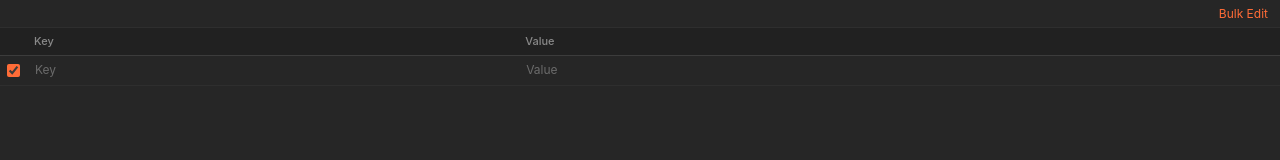
Test: KeyValueEditor › auto-appends an empty row when the last row is filled
The image size is (1280, 160).
Type "Accept" into the field with placeholder "Key" at (272, 70), box x1=26 y1=58 x2=517 y2=84
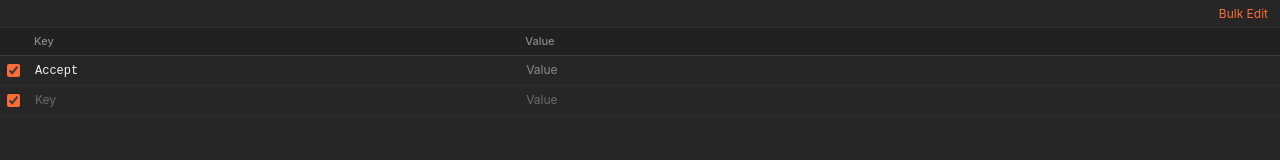
Now the number of fields with placeholder "Key" is 2, box x1=26 y1=58 x2=517 y2=84; x1=26 y1=88 x2=517 y2=114
Now the field with placeholder "Key" is empty, box x1=26 y1=88 x2=517 y2=114
